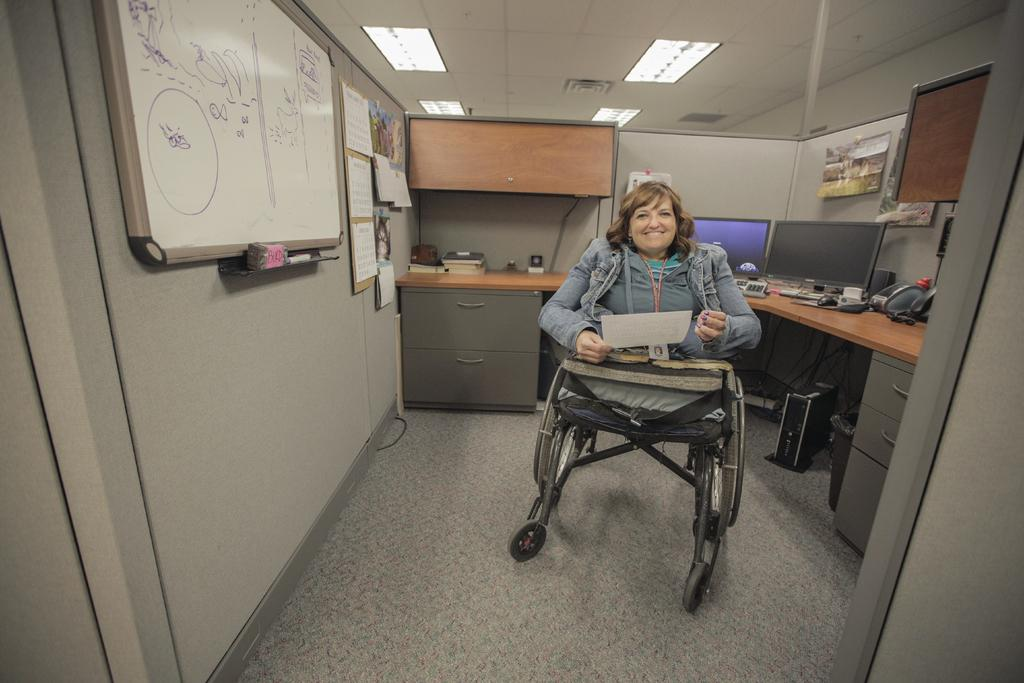Chair: (507, 334, 746, 613)
Computer-monitor: (764, 215, 888, 298)
